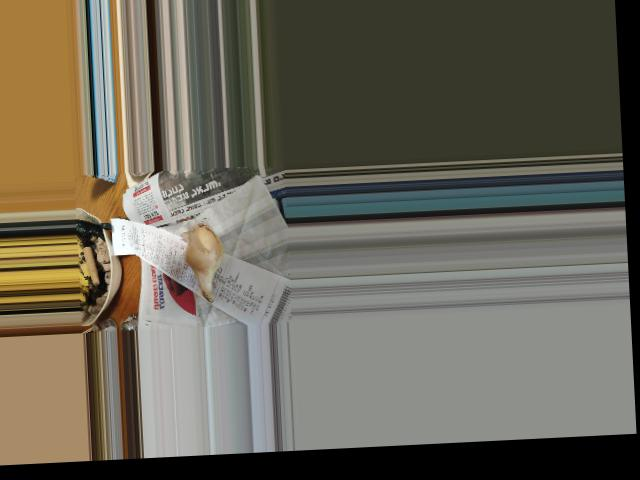onion: (187, 218, 223, 280)
